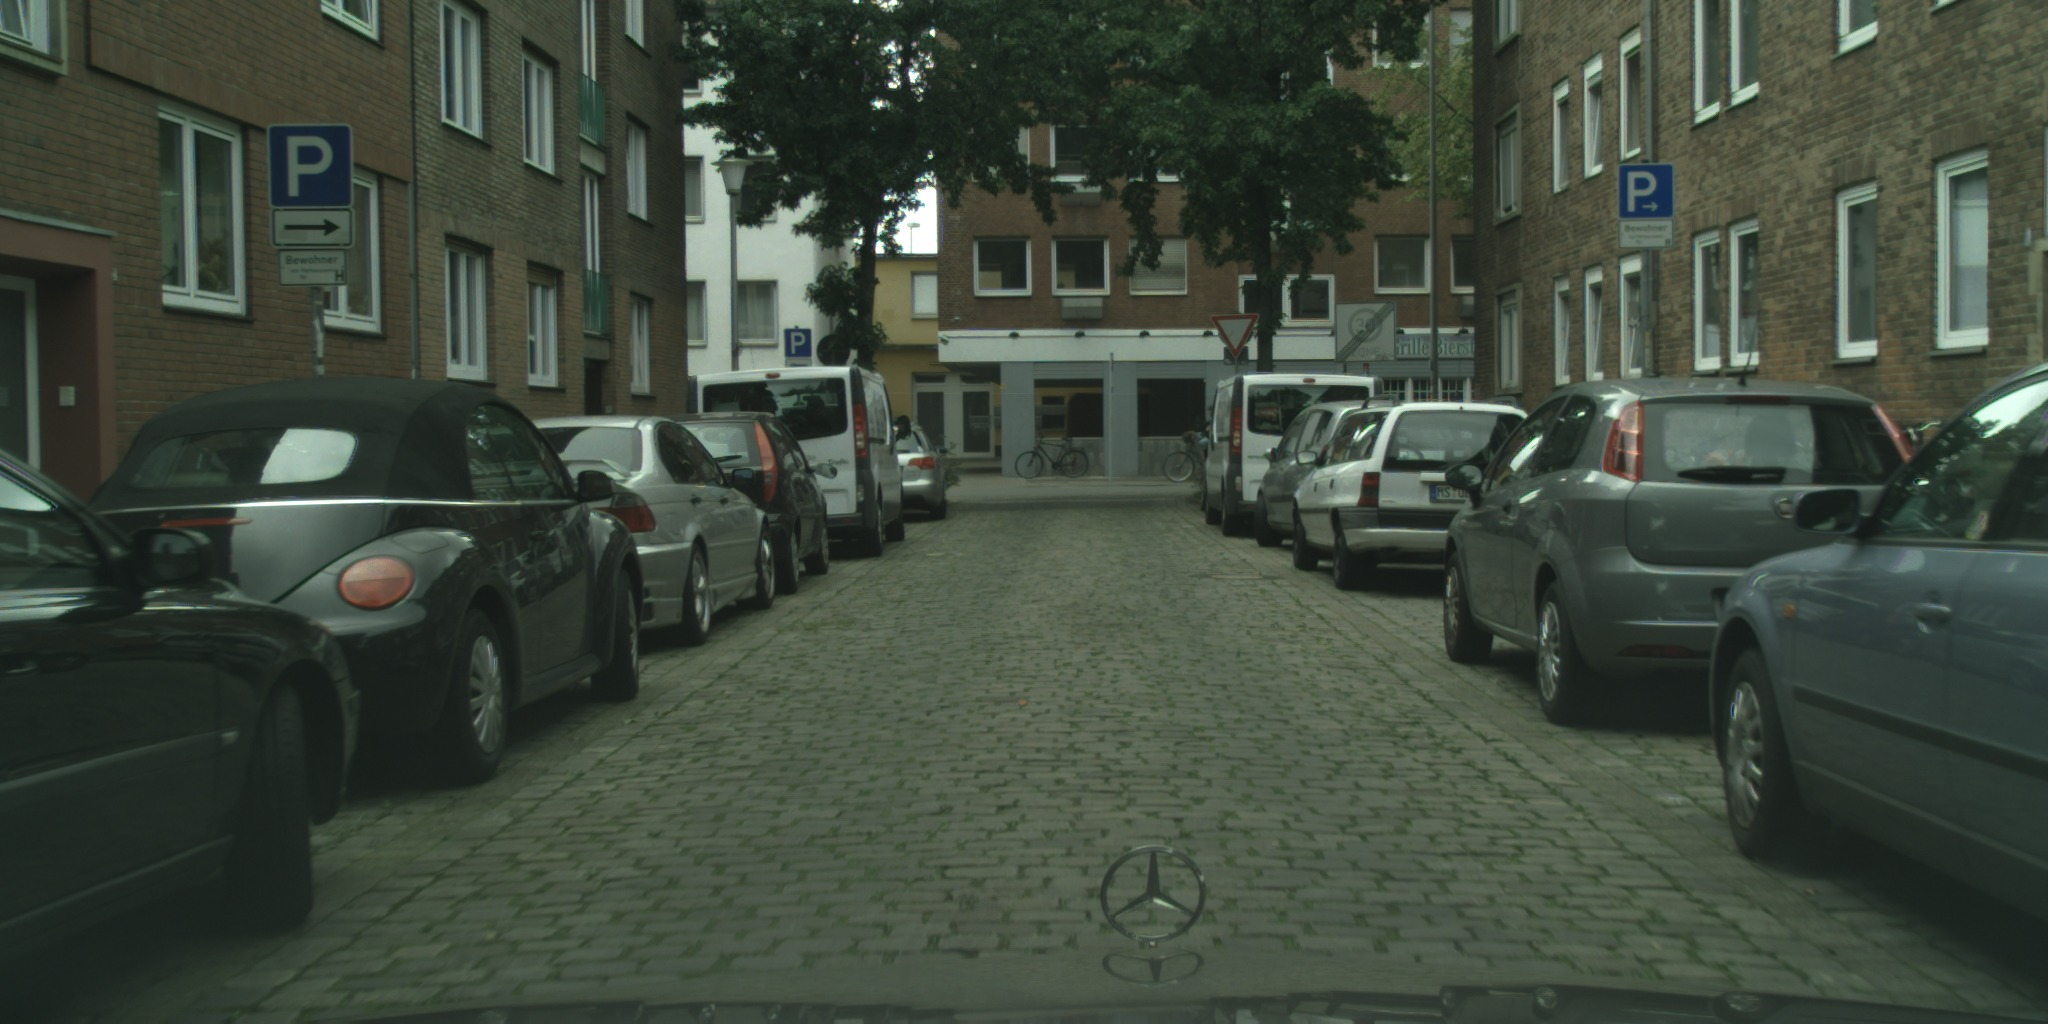bicycle: (1015, 430, 1089, 478), (1162, 419, 1215, 485)
car: (71, 372, 643, 790), (1708, 358, 2048, 923), (0, 448, 360, 963), (1442, 375, 1930, 729), (517, 415, 777, 649), (1290, 402, 1533, 590), (684, 364, 913, 559), (647, 411, 839, 596), (1196, 371, 1387, 537), (1253, 398, 1417, 549), (886, 424, 950, 522)
